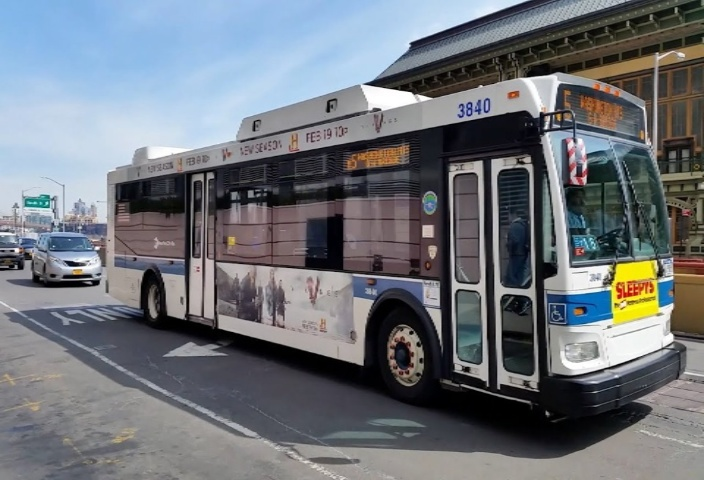bus: (88, 69, 690, 421)
camper: (1, 229, 26, 272)
car: (27, 221, 104, 286)
